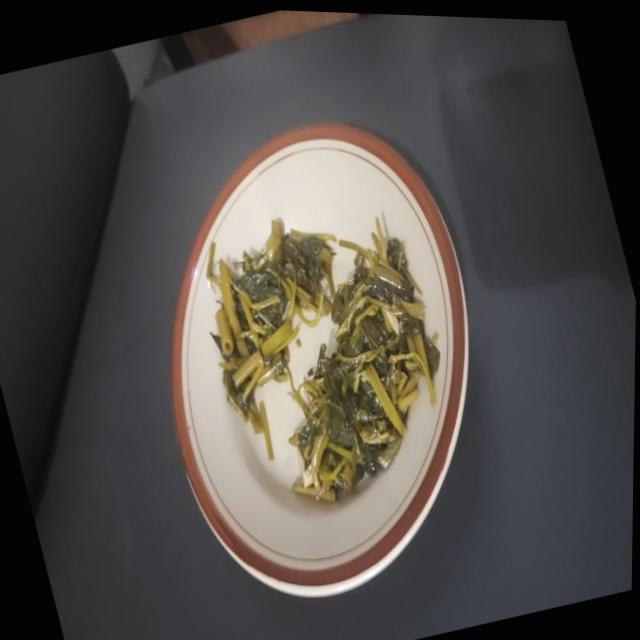tumis_kangkung: (289, 234, 439, 501), (204, 220, 334, 432)
